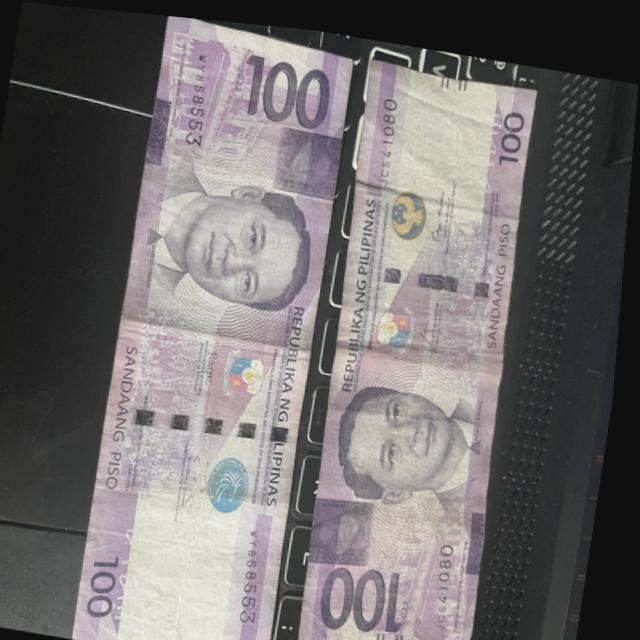concealed_value: (267, 118, 342, 197), (312, 487, 376, 562)
security_thread: (114, 395, 304, 449), (349, 246, 514, 292)
serial_number: (240, 517, 281, 629), (181, 40, 221, 148), (432, 527, 469, 628)
value: (317, 544, 424, 640), (239, 46, 346, 133)
